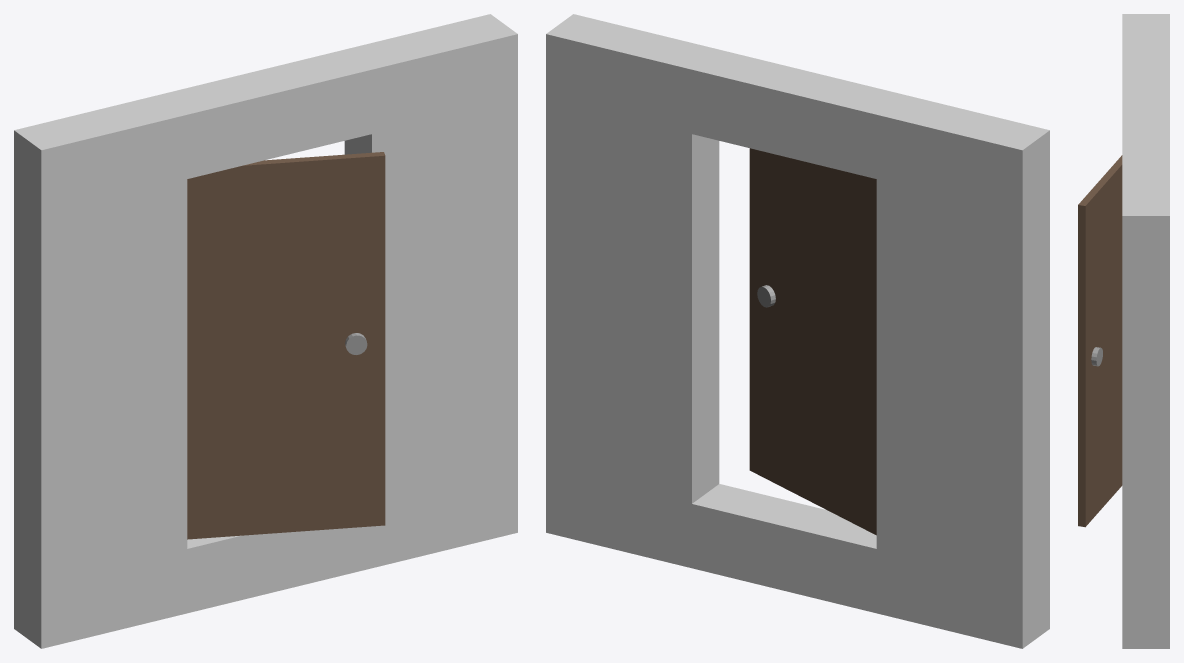
Rendered from door.glb.
3 renders of one model, left to right at view 1: azimuth 30°, elevation 25°; view 2: azimuth 150°, elevation 25°; view 3: azimuth 270°, elevation 25°, orthographic. The views are drawn at different scales.
Visible parts, largest first — view 1: Cube, Cube.001; view 2: Cube, Cube.001; view 3: Cube, Cube.001.
Boxes of the visible parts, x1,y1,x2,y2 form: Cube: (14, 14, 517, 648); Cube.001: (187, 152, 385, 539); Cube: (546, 14, 1049, 648); Cube.001: (749, 148, 876, 535); Cube: (1122, 14, 1169, 648); Cube.001: (1078, 155, 1122, 527).
Size of the model in its own units: 2 by 2 by 0.3847.
